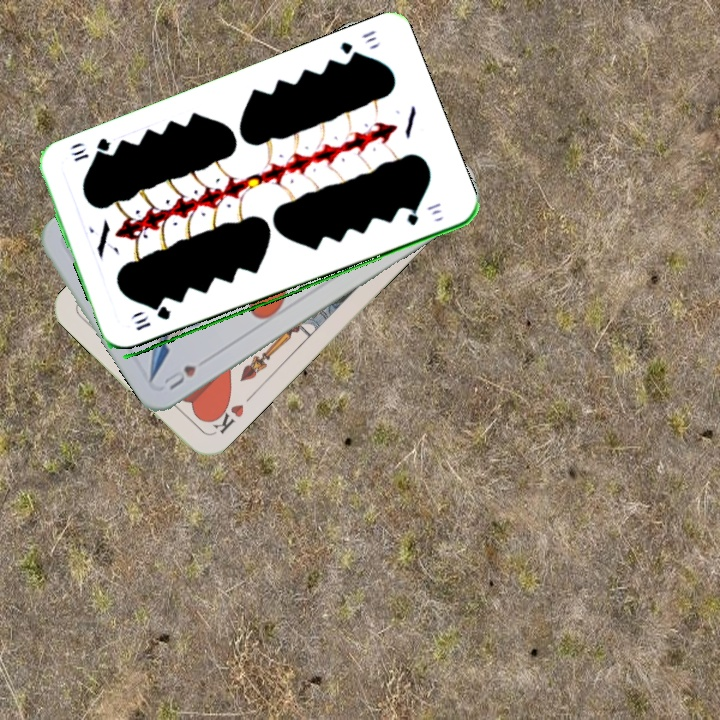G10: (336, 26, 379, 63), (131, 305, 173, 333)
HK: (204, 396, 247, 438)
HU: (160, 361, 199, 393)
